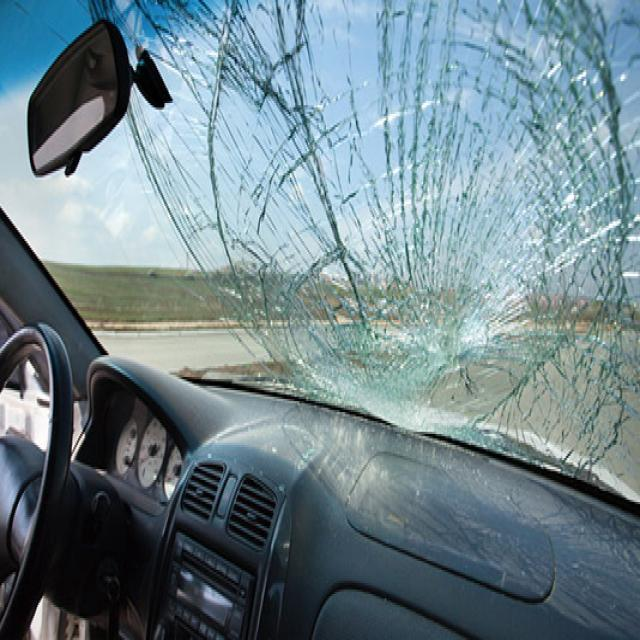crack: (82, 0, 640, 488)
